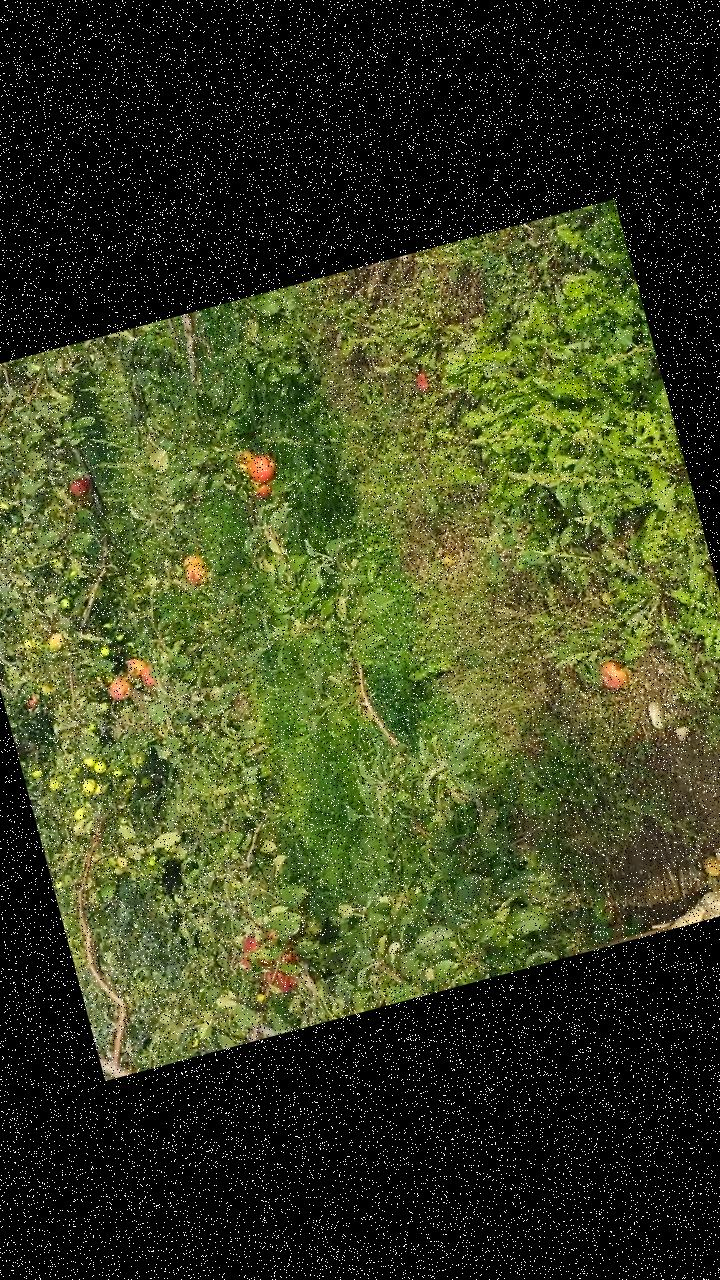Apple: (180, 550, 209, 588), (246, 451, 278, 485), (262, 966, 294, 997), (232, 447, 257, 480), (103, 675, 132, 702), (248, 474, 272, 500), (124, 656, 148, 680), (65, 476, 90, 499), (134, 665, 156, 691), (236, 931, 260, 954), (274, 946, 297, 968)
